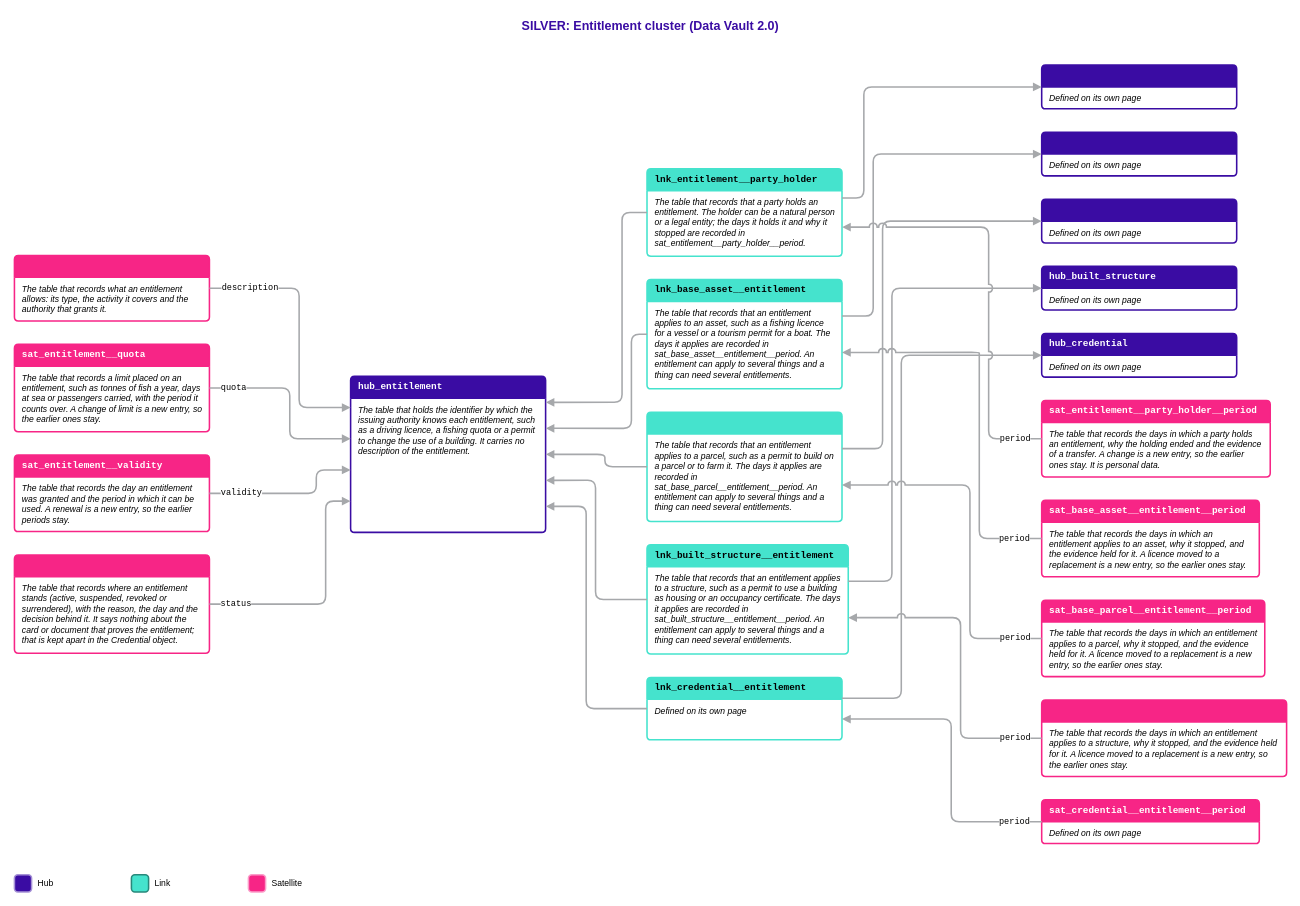
This 1300x906 diagram has some shape labels left out. The box of each missing label's shape, as (x1, y1, x2, y2) in pixels:
hub_base_asset: (1041, 131, 1237, 176)
hub_base_parcel: (1041, 198, 1237, 243)
hub_party: (1041, 64, 1237, 109)
lnk_base_parcel__entitlement: (646, 411, 842, 522)
sat_built_structure__entitlement__period: (1041, 699, 1287, 777)
sat_entitlement__description: (13, 254, 210, 321)
sat_entitlement__status: (13, 554, 210, 654)
